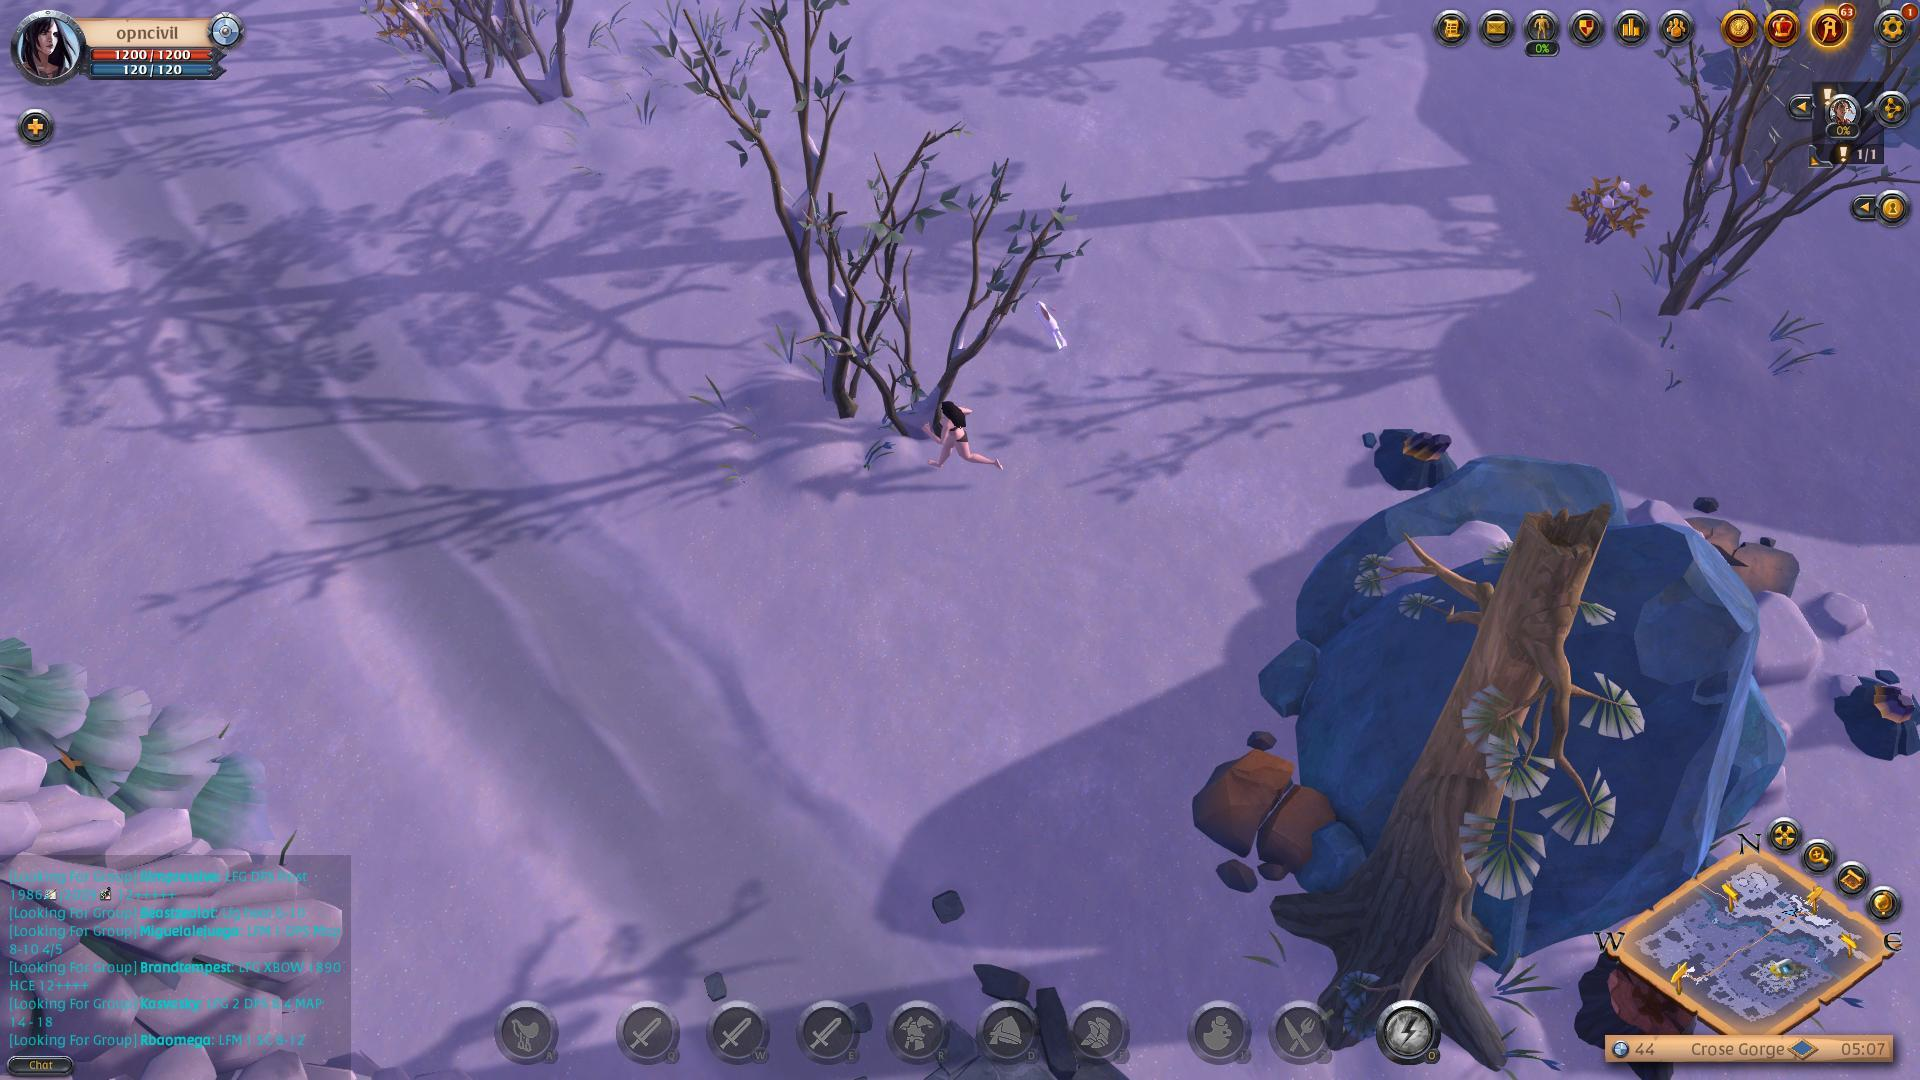copper_ore: (1832, 653, 1920, 770), (1362, 407, 1464, 505)
cotton: (1557, 166, 1656, 253)
limestone: (1188, 738, 1338, 890)
